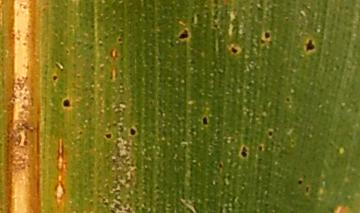tarspot: (238, 142, 250, 163), (226, 43, 241, 58), (304, 37, 316, 55), (60, 96, 73, 112), (176, 27, 190, 41), (200, 113, 210, 130), (50, 71, 61, 86), (262, 29, 273, 43), (127, 126, 139, 138), (266, 127, 276, 141), (255, 142, 266, 154), (102, 130, 114, 140), (296, 176, 304, 189)
